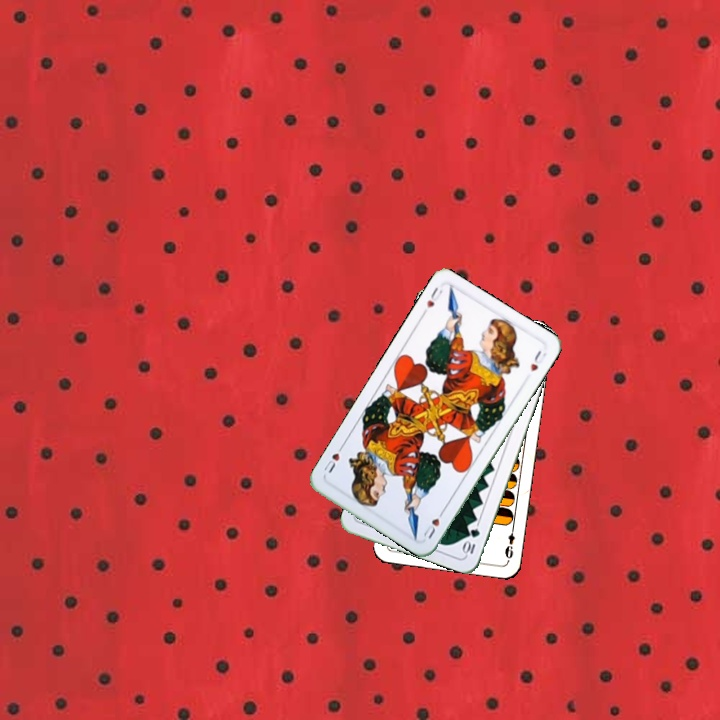E9: (501, 522, 517, 561)
G10: (459, 524, 482, 557)
HU: (418, 505, 448, 541), (422, 283, 445, 311)
